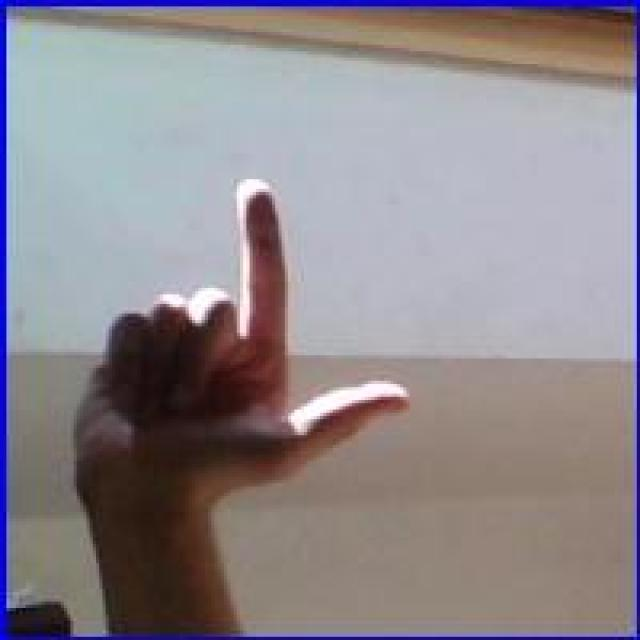L: (69, 171, 427, 530)
